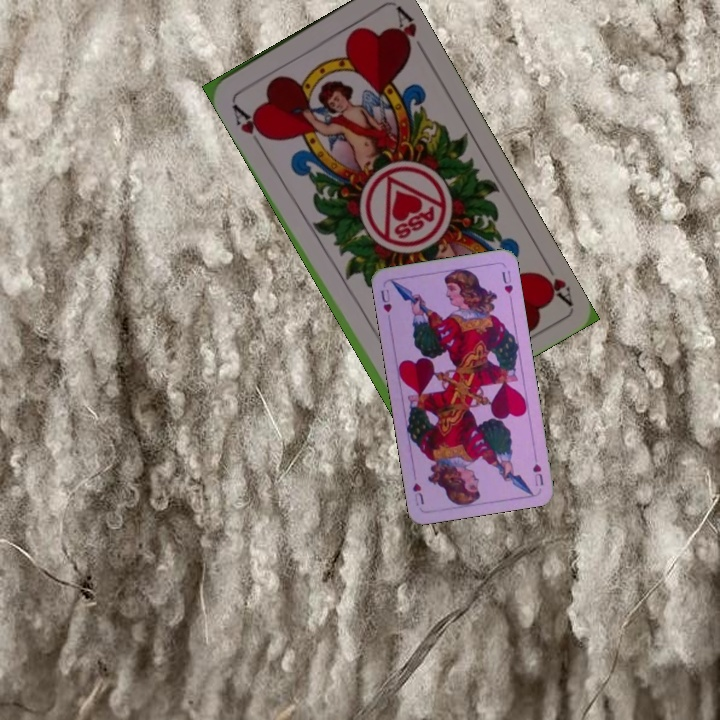HA: (227, 96, 271, 150), (533, 254, 575, 307)
HU: (529, 449, 546, 489), (377, 285, 394, 315)
